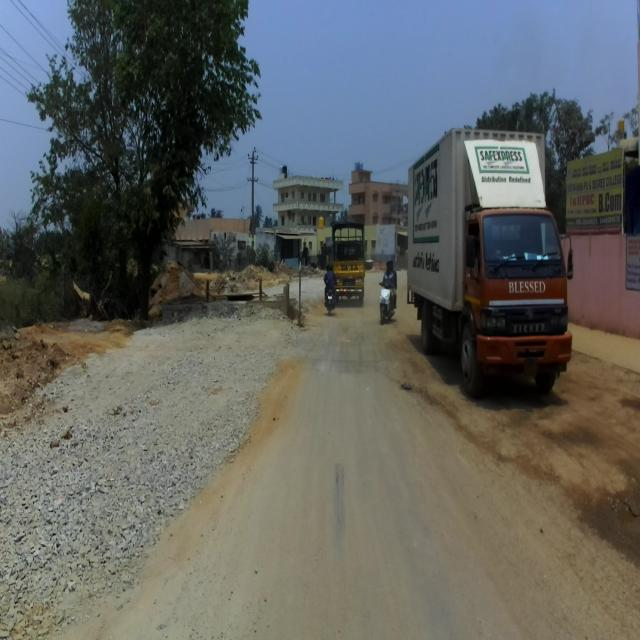truck ahead at: (405, 135, 574, 412), (334, 222, 369, 299)
